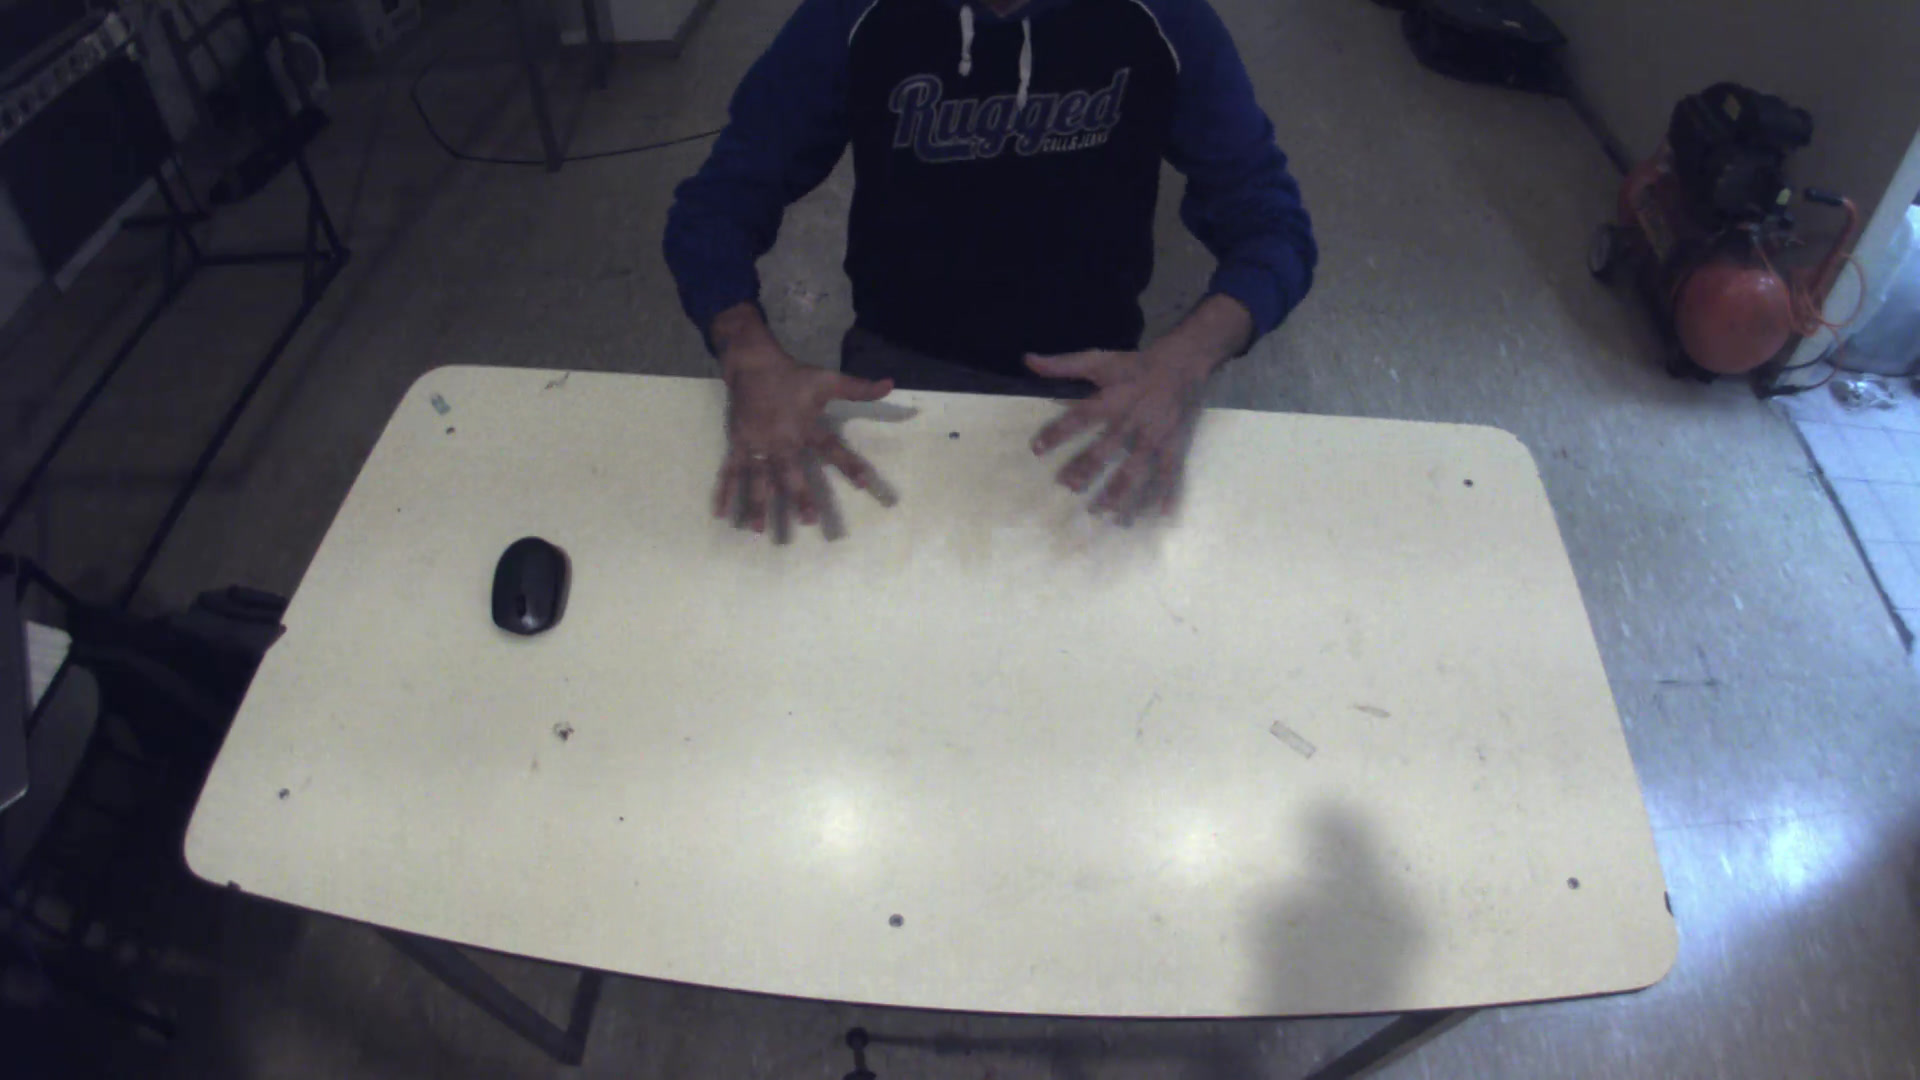hand: (694, 327, 914, 550), (1014, 324, 1220, 530)
